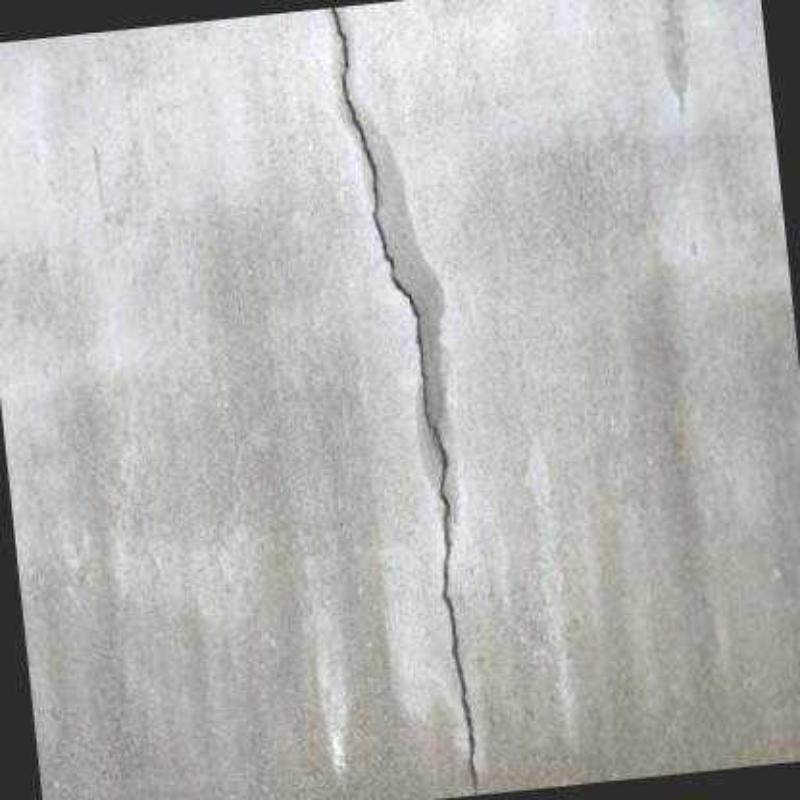crack: (330, 7, 479, 797)
